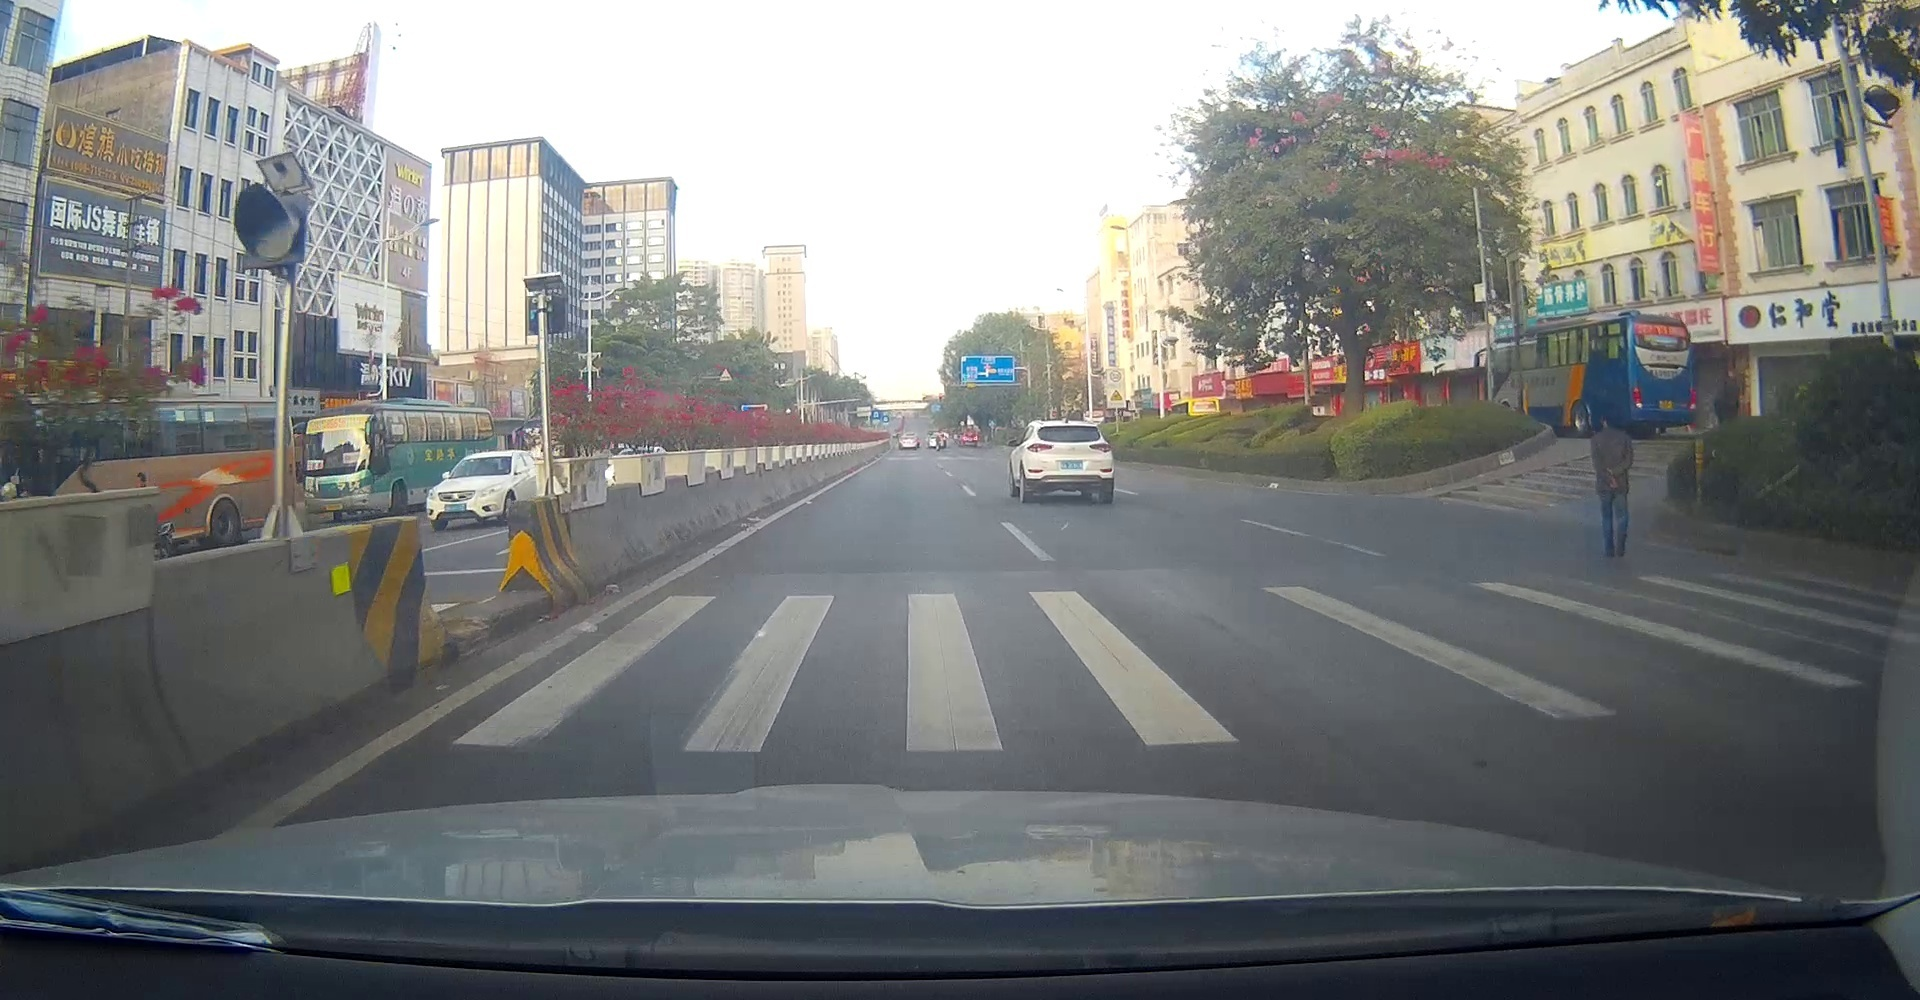L_light: (1027, 443, 1054, 453)
R_light: (1088, 442, 1112, 453)
T_light: (1062, 426, 1073, 428)
day-no: (1023, 421, 1114, 504)
